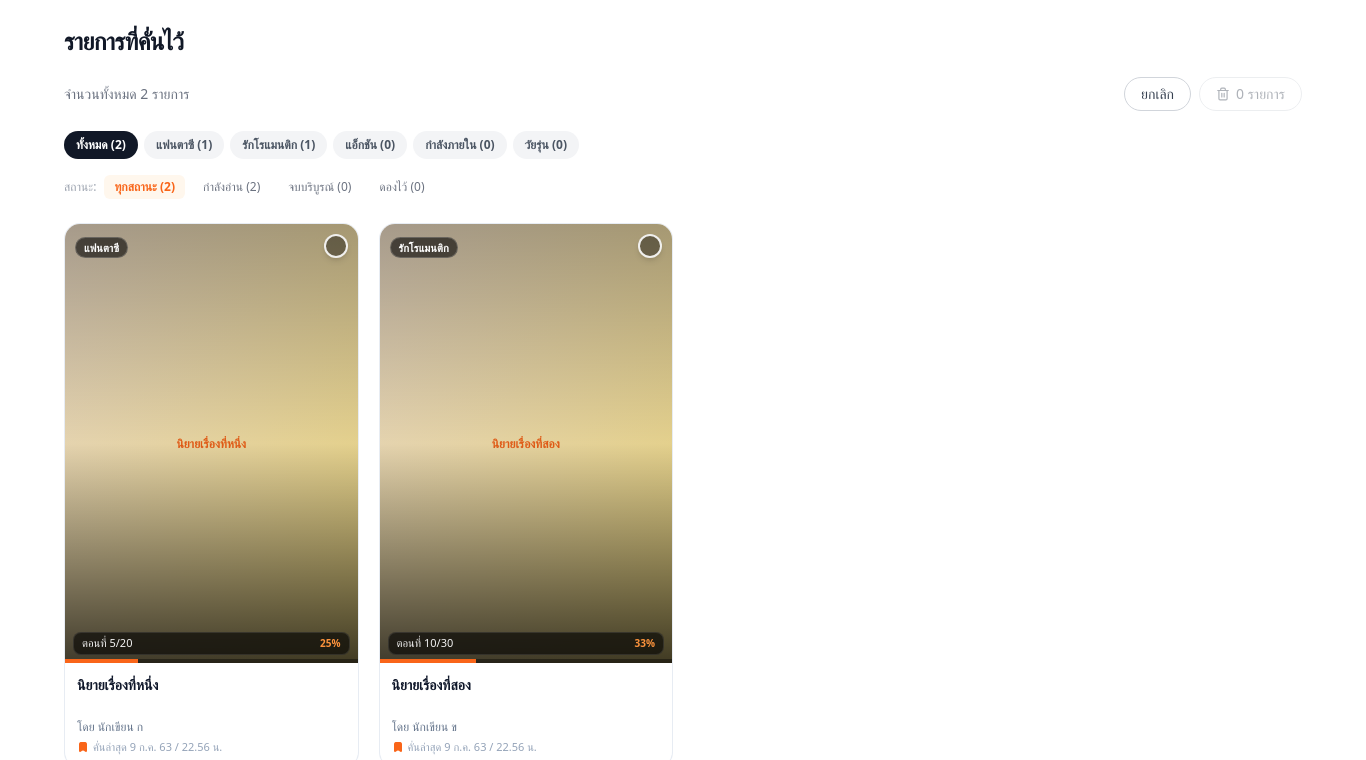
Test: BookmarkList and BookmarkCard Figma Edit Mode › renders Figma edit mode pill buttons when isEditMode is true
Click the button "ยกเลิก" at (1158,94), box [1124,77,1191,111]
(page scrolled)
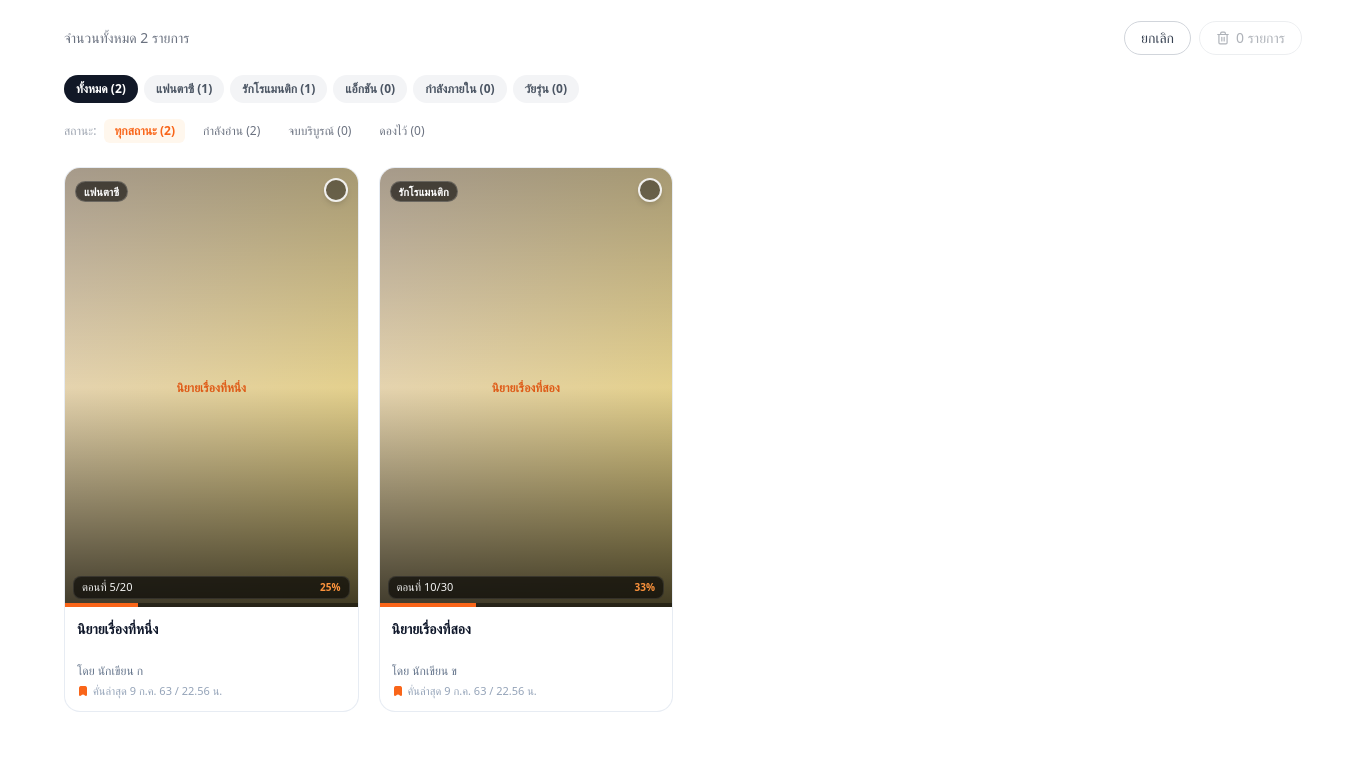
Expected: the button "0 รายการ" is disabled, [1199,21,1302,55]
Click card primary action button to select
Click the button named "นิยายเรื่องที่หนึ่ง" at (211,440), box [65,168,358,711]
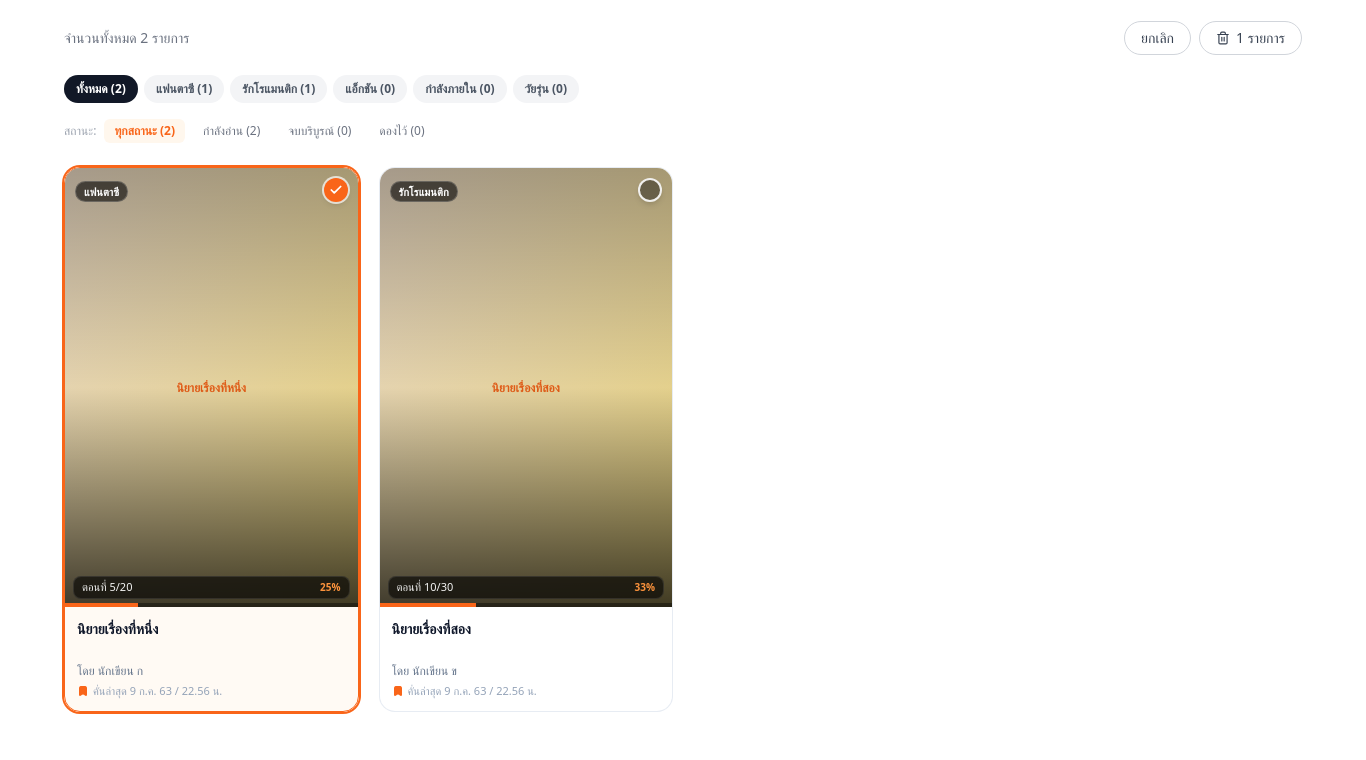
Expected: the button "1 รายการ" is enabled, [1199,21,1302,55]
